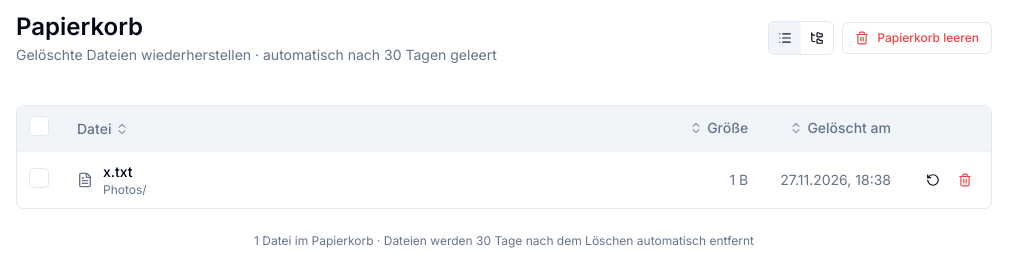
TrashPage — Tree-View › blendet roots ohne entries aus, zeigt nur befuellte
This screenshot has width=1009, height=265.
Click the button named "Ordneransicht" at (817, 38), box left=801, top=22, right=833, bottom=54
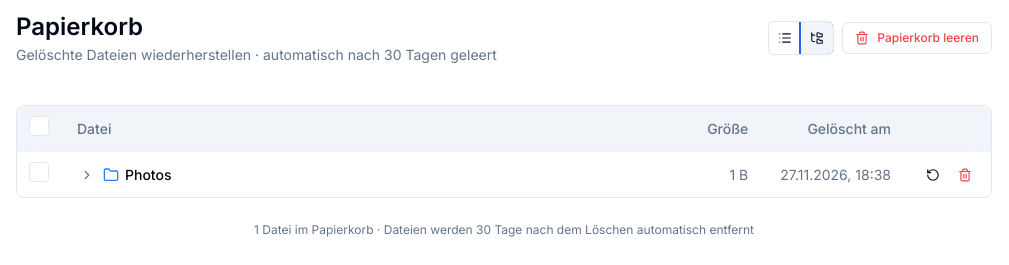
Result: the list item "Photos 1 B 27.11.2026, 18:38" is shown at left=17, top=152, right=991, bottom=197
